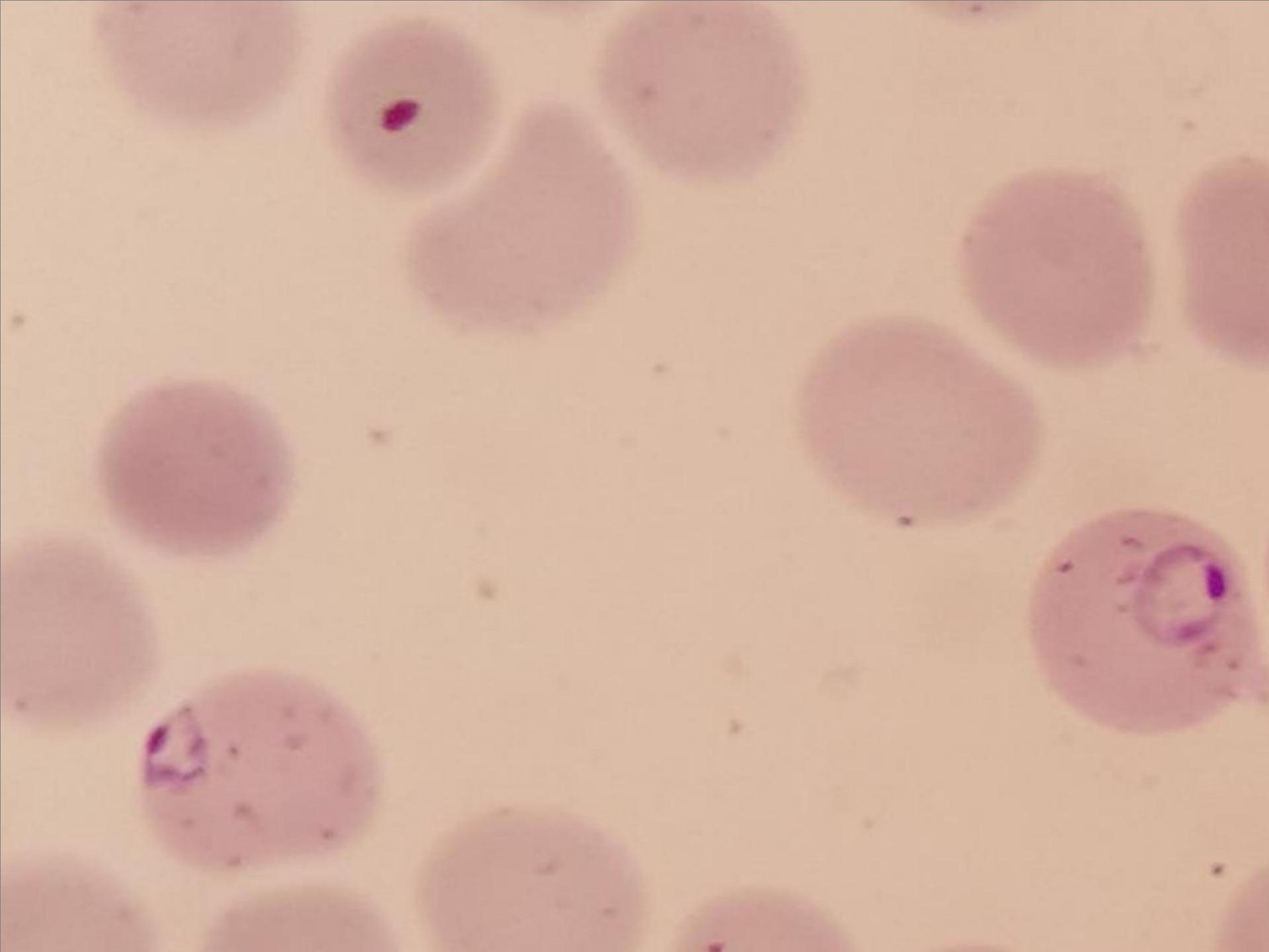Infected: (1026, 502, 1259, 733), (140, 664, 387, 869)
Uninfected: (410, 99, 629, 326), (803, 314, 1037, 520), (598, 0, 806, 181), (968, 179, 1157, 369), (94, 384, 289, 553), (421, 810, 647, 952), (329, 22, 499, 192), (96, 0, 306, 131), (0, 535, 154, 712)
